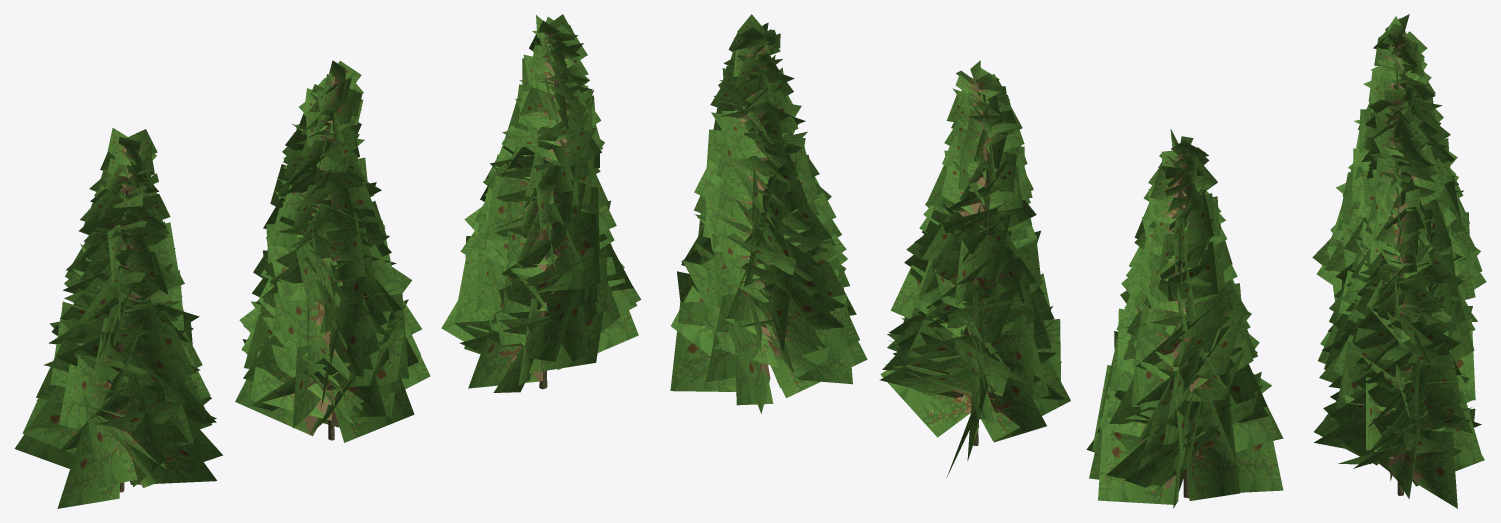
The model's file is Low_Poly_Trees_Free.glb.
3 views of the same model, side by side, from view 1: azimuth 30°, elevation 25°; view 2: azimuth 150°, elevation 25°; view 3: azimuth 270°, elevation 25° (orthographic). The views are drawn at different scales.
Visible parts, largest first — view 1: unnamed (×3); view 2: unnamed (×3); view 3: unnamed (×3).
Boxes of the visible parts, bbox=[...] form: unnamed (×3): bbox=[14, 14, 641, 508]; unnamed (×3): bbox=[670, 14, 1283, 508]; unnamed (×3): bbox=[1312, 14, 1486, 508].
Size of the model in its own units: 2.74 by 1.72 by 0.8422.
2 materials, 2 textured.
